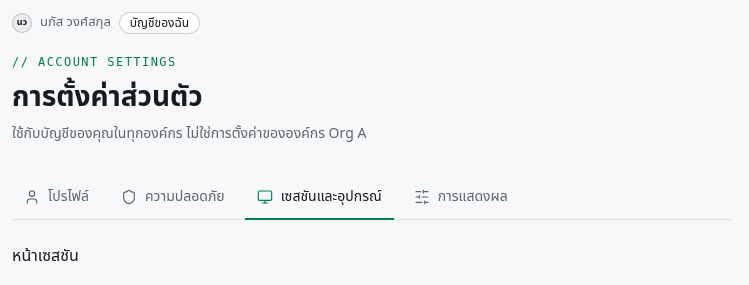
Scenario: SettingsLayout › marks the tab for the current URL as selected and swaps the routed content on click
expect the text "หน้าเซสชัน" is shown: met, box [12,244,79,268]
Step 1. Click the tab with test id "settings-tab-/settings/display" → x=461, y=196, box [414,186,508,207]
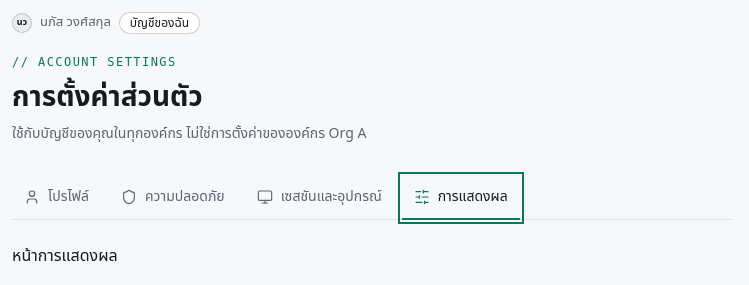
expect the text "หน้าการแสดงผล" is shown: met, box [12,244,118,268]
